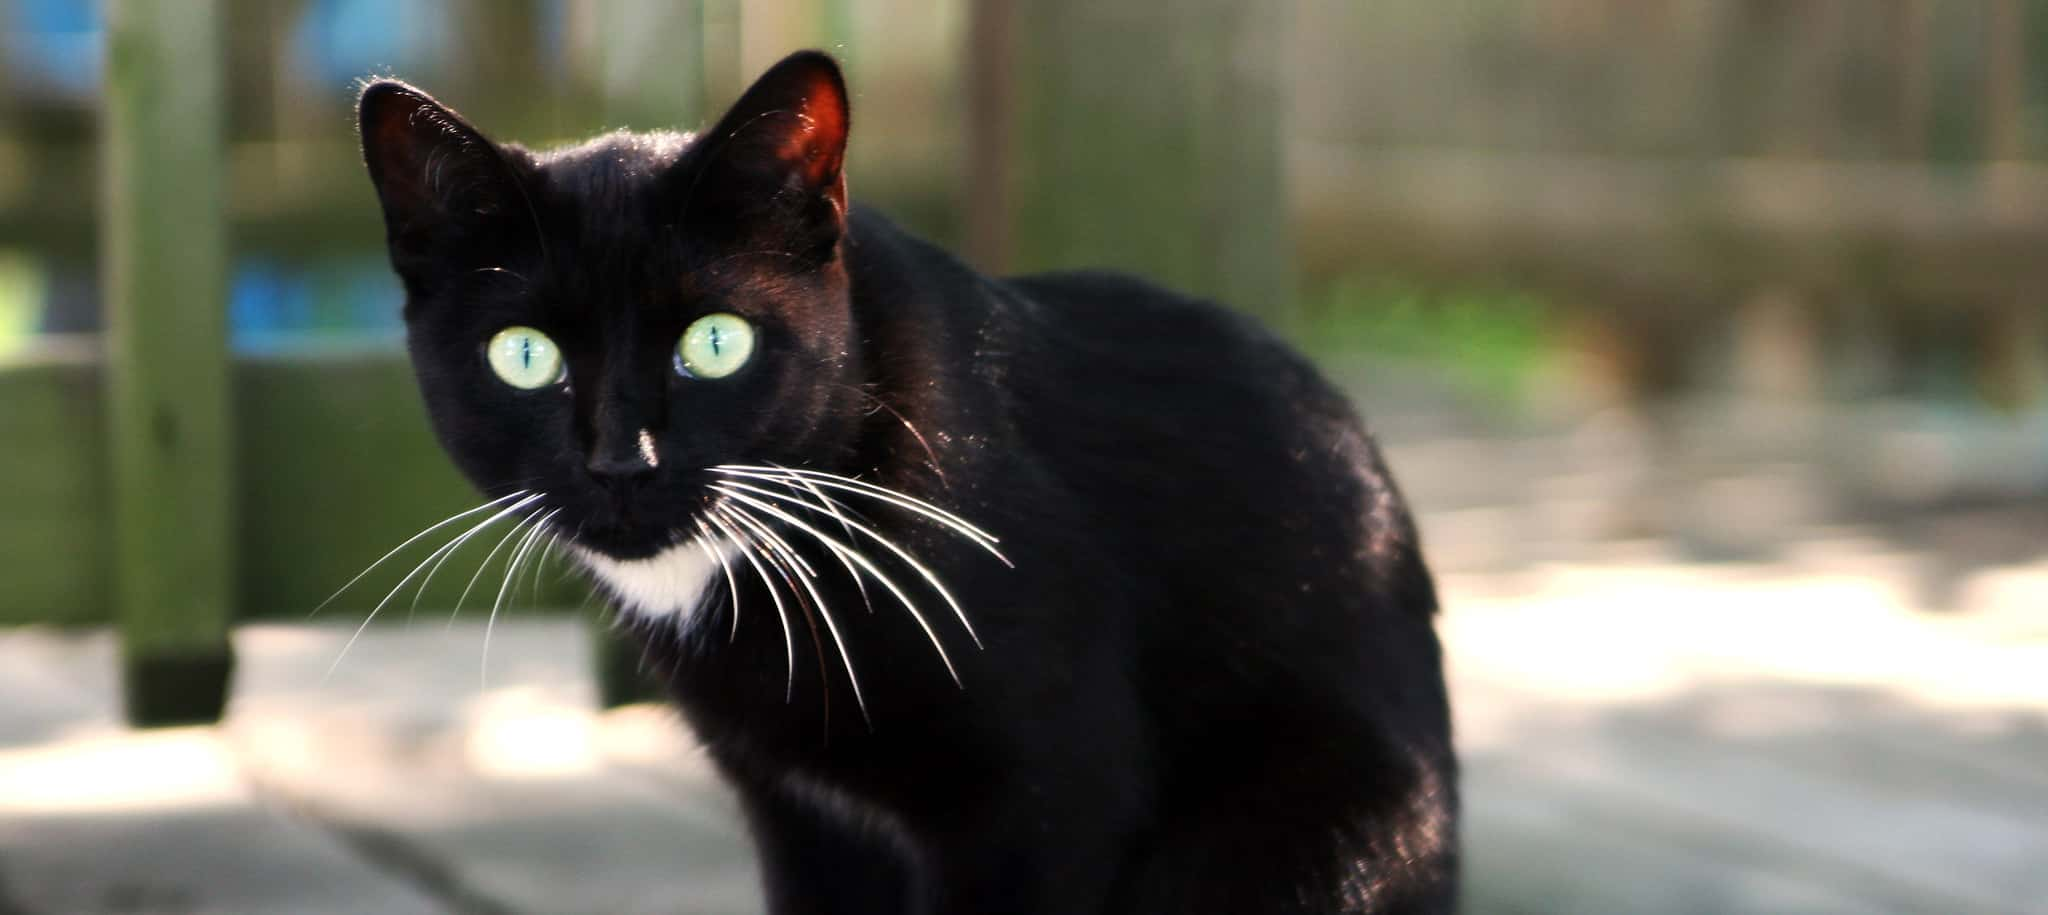Cat: (334, 20, 1524, 915)
